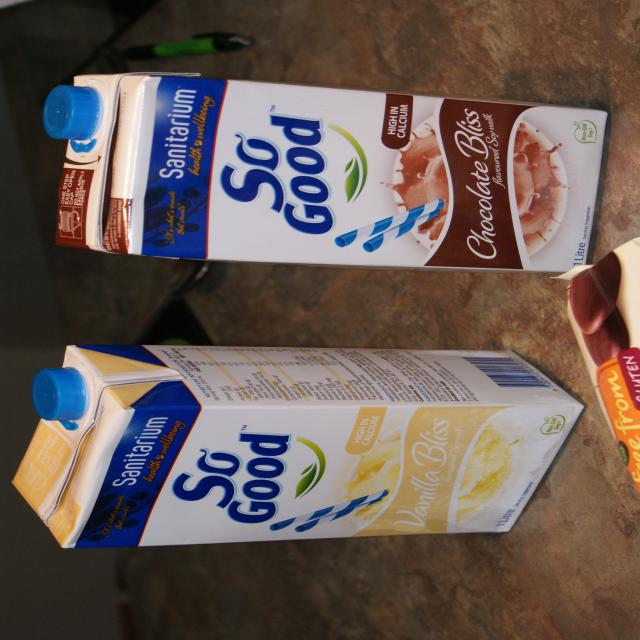non_white_jug: (10, 340, 588, 549), (39, 70, 612, 274)
